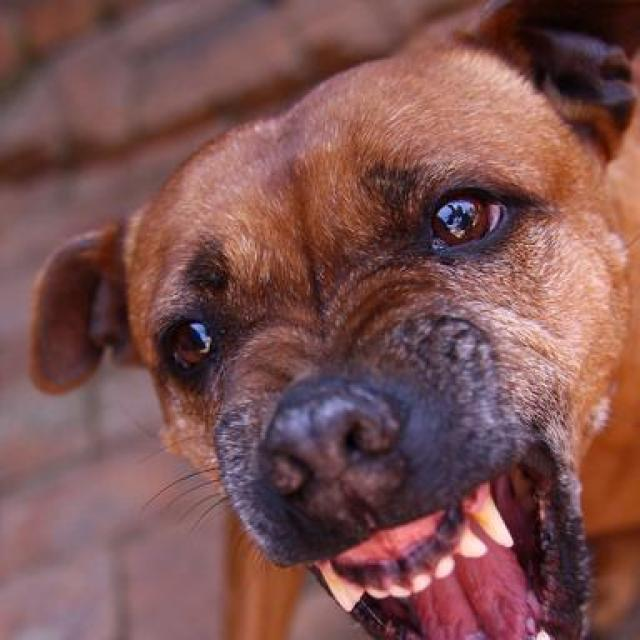angry: (26, 6, 640, 640)
